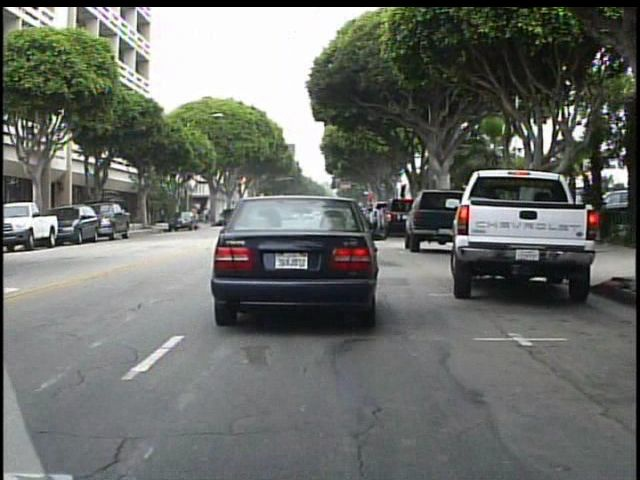person: (202, 204, 214, 227)
